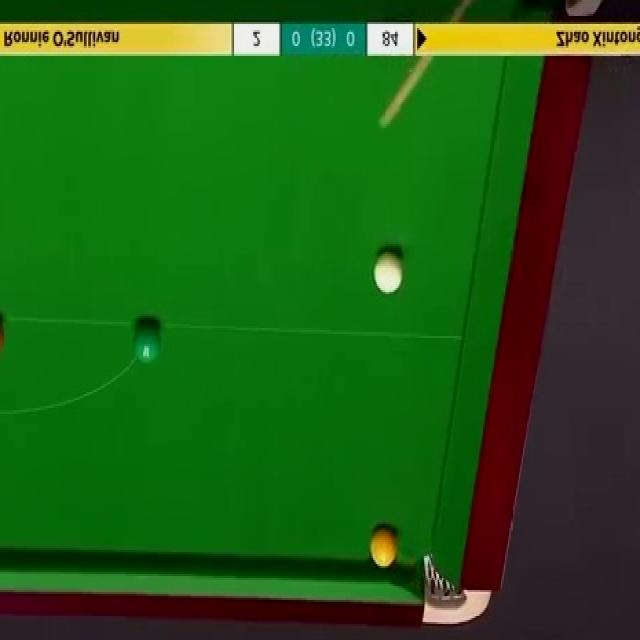green-ball: (133, 323, 162, 368)
white-ball: (373, 248, 404, 296)
yellow-ball: (369, 525, 398, 570)
